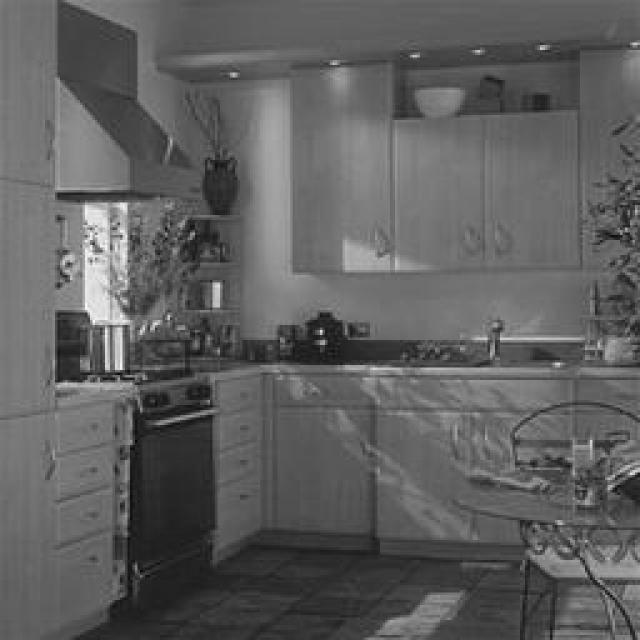table: (492, 395, 639, 638), (450, 467, 639, 638)
